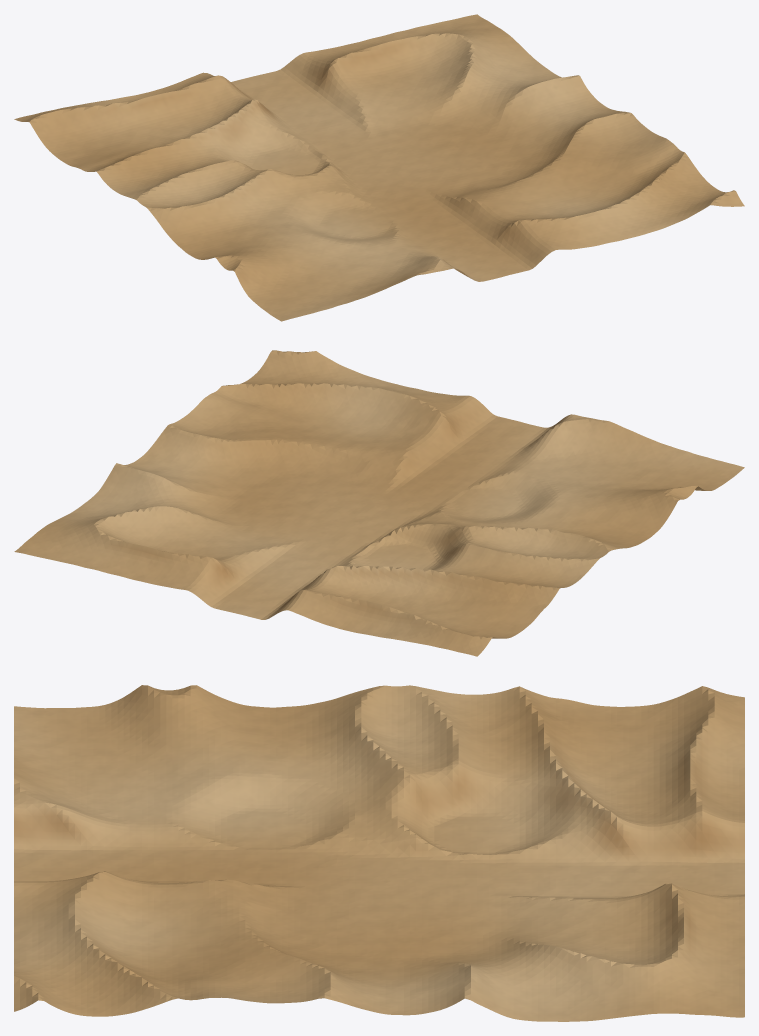
Rendered from terrain.glb.
3 renders of one model, top to bottom at view 1: azimuth 30°, elevation 25°; view 2: azimuth 150°, elevation 25°; view 3: azimuth 270°, elevation 25°, orthographic. The views are drawn at different scales.
Parts seen in each view (by area): view 1: Terrain; view 2: Terrain; view 3: Terrain.
Part boxes in pixels (x1=…): Terrain: x1=14, y1=14, x2=744, y2=321; Terrain: x1=14, y1=350, x2=744, y2=656; Terrain: x1=14, y1=685, x2=744, y2=1021.
Bounding box in the file's own units: 240 × 12.86 × 240.
